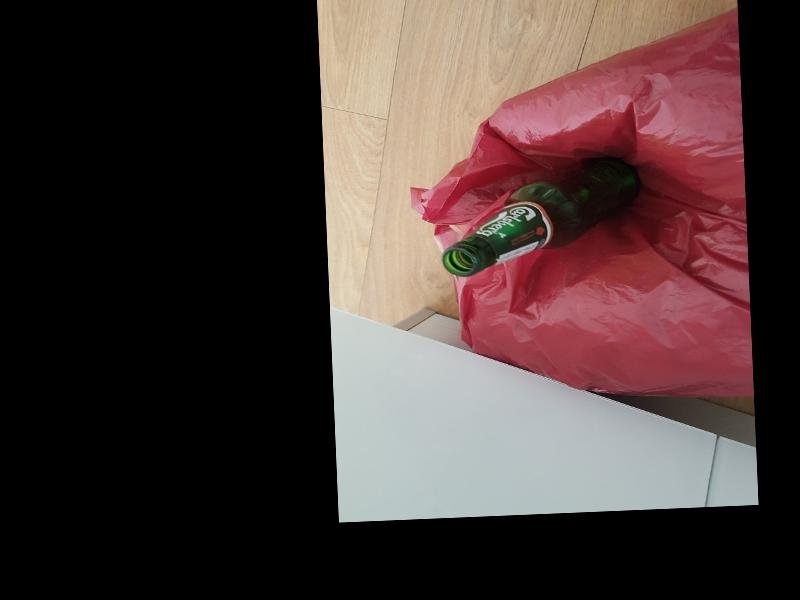Beer: (436, 154, 640, 276)
